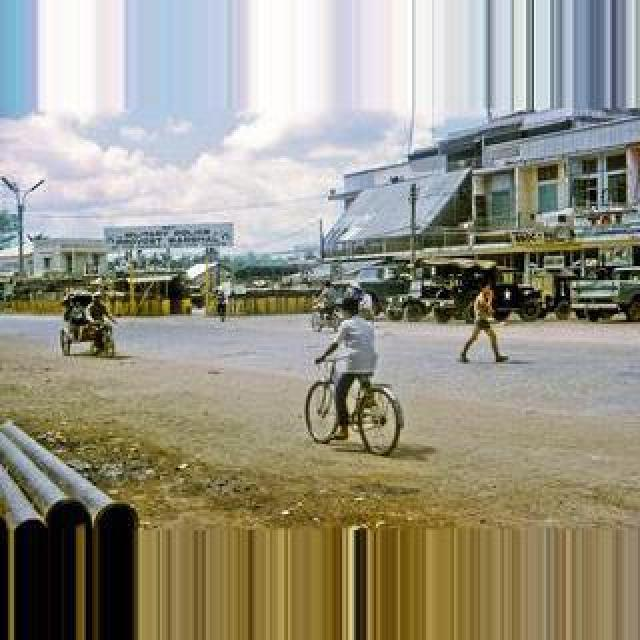Bus-Bike: (352, 264, 410, 296)
MC-Bike: (314, 296, 380, 434), (460, 282, 510, 364), (86, 292, 116, 350), (62, 292, 94, 332)
Person: (304, 360, 404, 456)
Person-Bike: (570, 268, 640, 322)
